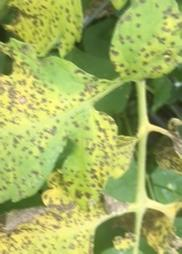Tomato leaf bacterial spot: (0, 42, 97, 209), (0, 155, 131, 254), (60, 105, 137, 208), (105, 0, 182, 93), (0, 0, 86, 65)
